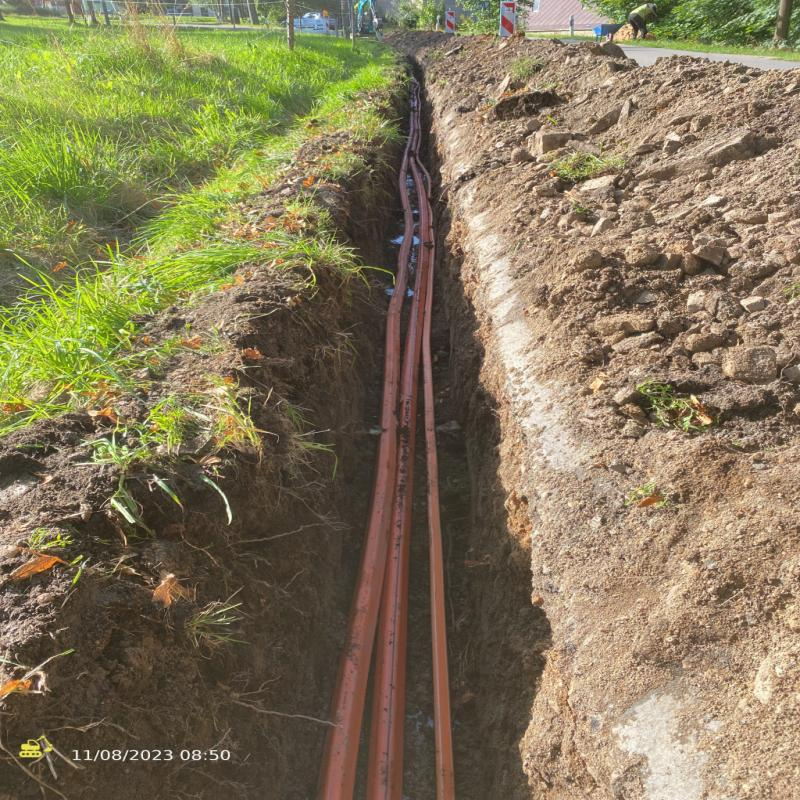Orang-Speednetrohrchen: (316, 162, 453, 800)
